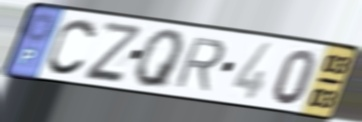0: (269, 46, 318, 107)
4: (229, 40, 275, 103)
C: (46, 17, 100, 78)
Q: (133, 28, 186, 91)
R: (171, 36, 229, 93)
Z: (82, 19, 142, 83)
